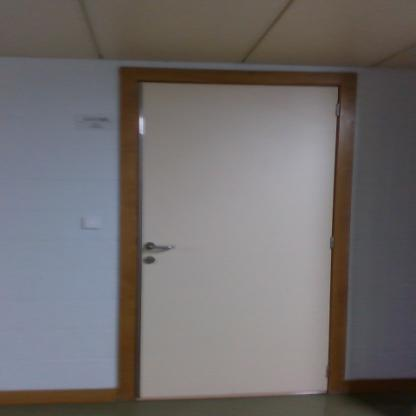door: (140, 83, 330, 397)
hinged: (335, 102, 341, 116), (330, 236, 336, 250), (325, 364, 330, 378)
lever: (148, 244, 178, 252)
